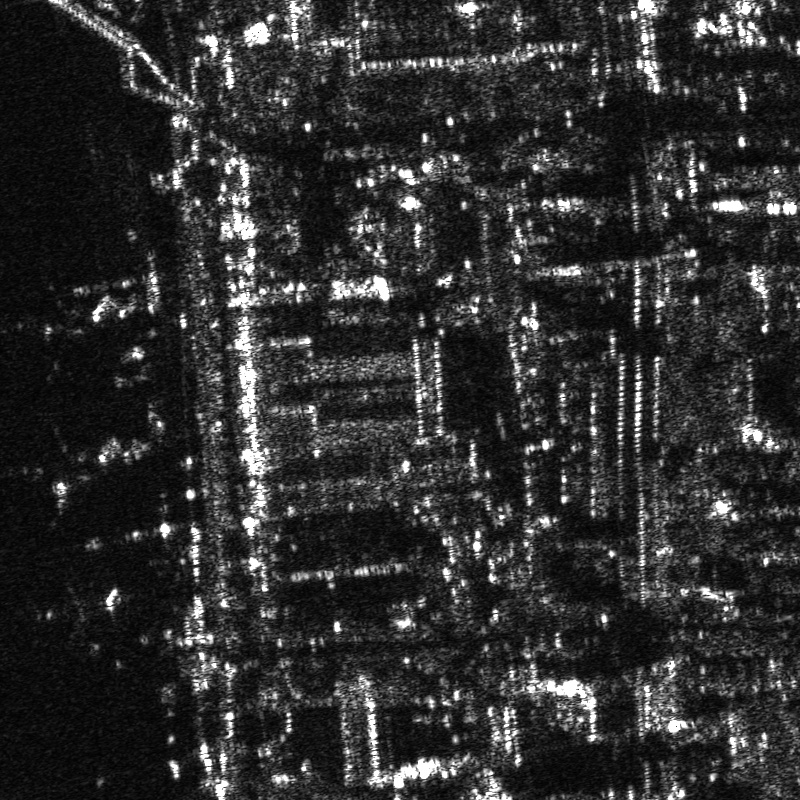ARJ21: (12, 411, 173, 520)
other: (43, 241, 175, 366), (34, 581, 120, 650)
